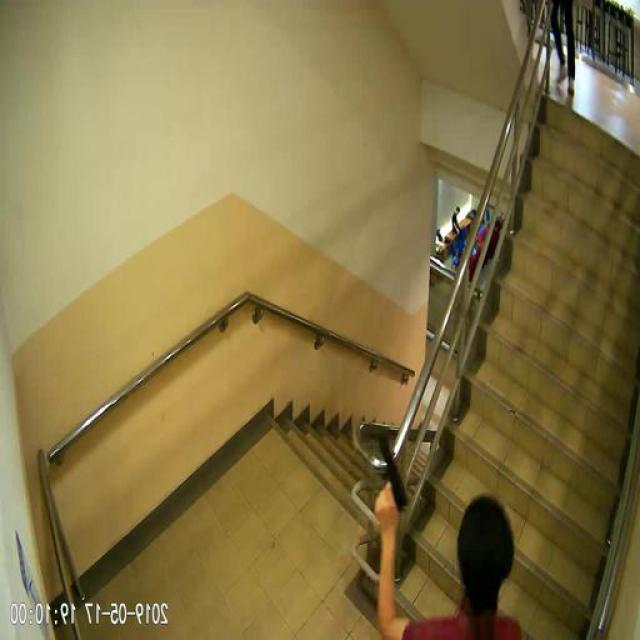Gun: (375, 431, 410, 515)
